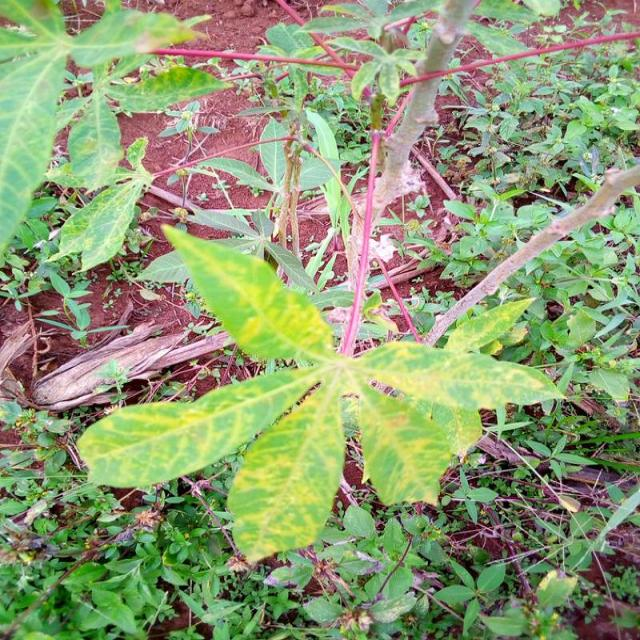cassava leaf: (75, 220, 566, 563), (75, 362, 326, 490), (158, 221, 334, 365), (226, 381, 346, 564)
